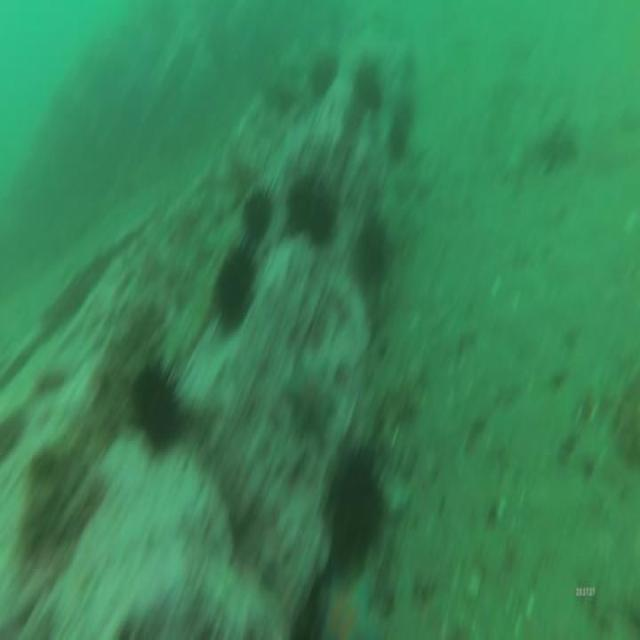echinus: (318, 432, 390, 562), (126, 354, 188, 450), (208, 236, 262, 327), (355, 204, 391, 291), (308, 180, 343, 262), (240, 180, 276, 242), (357, 52, 385, 116), (308, 46, 338, 103), (285, 177, 311, 235), (387, 115, 409, 169)
starfish: (312, 553, 376, 635)
